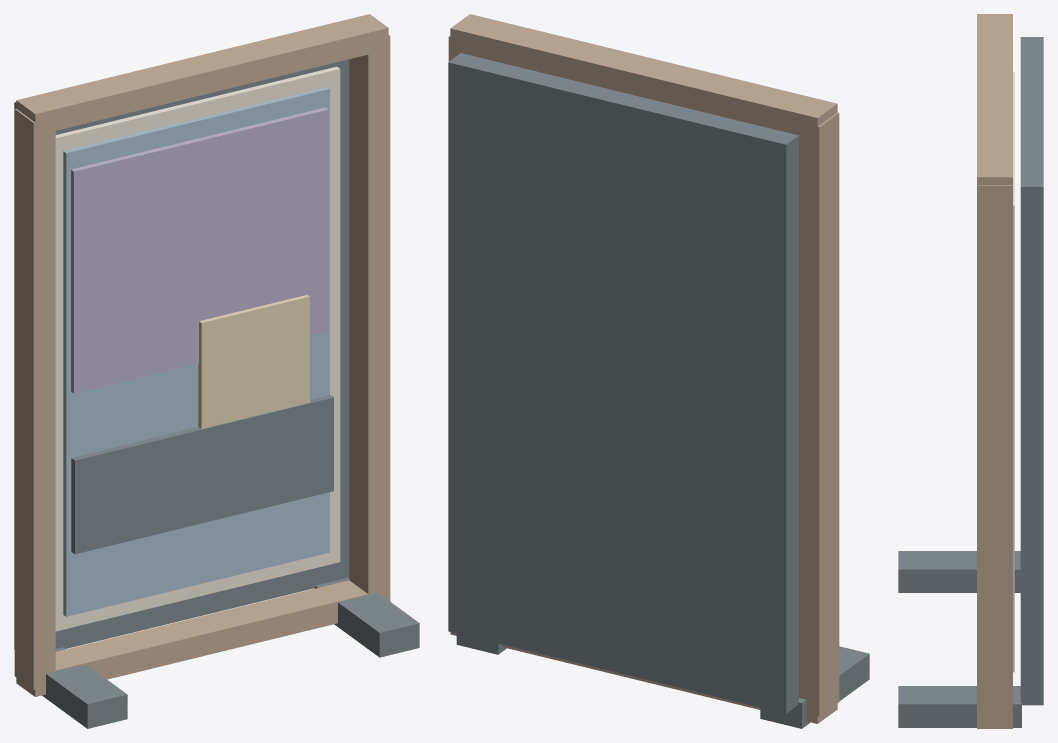
Rendered from poster_floor_frame.glb.
3 views of the same model, side by side, from view 1: azimuth 30°, elevation 25°; view 2: azimuth 150°, elevation 25°; view 3: azimuth 270°, elevation 25° (orthographic). The views are drawn at different scales.
Visible parts, largest first — view 1: ArtworkDuskGradientUpper, InkBackdrop, ArtworkHorizon, SolidWoodVerticalFrame_-0.355, SolidWoodVerticalFrame_0.355, CreamMat, SolidWoodHorizontalFrame_1.17, WalnutBackboard, ArtworkWarmSun, SolidWoodHorizontalFrame_0.032, LeanFoot_0.31, LeanFoot_-0.31; view 2: WalnutBackboard, SolidWoodVerticalFrame_-0.355, SolidWoodHorizontalFrame_1.17, LeanFoot_-0.31, SolidWoodHorizontalFrame_0.032; view 3: SolidWoodVerticalFrame_0.355, WalnutBackboard, SolidWoodHorizontalFrame_1.17, LeanFoot_0.31, LeanFoot_-0.31, CreamMat.
Part boxes in pixels (x1=…): ArtworkDuskGradientUpper: x1=71, y1=107, x2=328, y2=393; InkBackdrop: x1=63, y1=87, x2=329, y2=616; ArtworkHorizon: x1=71, y1=395, x2=333, y2=554; SolidWoodVerticalFrame_-0.355: x1=14, y1=108, x2=55, y2=689; SolidWoodVerticalFrame_0.355: x1=349, y1=35, x2=390, y2=601; CreamMat: x1=55, y1=66, x2=340, y2=631; SolidWoodHorizontalFrame_1.17: x1=16, y1=14, x2=388, y2=135; WalnutBackboard: x1=14, y1=59, x2=349, y2=649; ArtworkWarmSun: x1=198, y1=295, x2=309, y2=428; SolidWoodHorizontalFrame_0.032: x1=16, y1=580, x2=387, y2=696; LeanFoot_0.31: x1=314, y1=577, x2=419, y2=657; LeanFoot_-0.31: x1=42, y1=647, x2=127, y2=728; WalnutBackboard: x1=448, y1=53, x2=798, y2=713; SolidWoodVerticalFrame_-0.355: x1=796, y1=112, x2=839, y2=716; SolidWoodHorizontalFrame_1.17: x1=450, y1=14, x2=837, y2=138; LeanFoot_-0.31: x1=760, y1=646, x2=869, y2=728; SolidWoodHorizontalFrame_0.032: x1=450, y1=632, x2=837, y2=723; SolidWoodVerticalFrame_0.355: x1=977, y1=185, x2=1012, y2=722; WalnutBackboard: x1=1020, y1=37, x2=1043, y2=705; SolidWoodHorizontalFrame_1.17: x1=977, y1=14, x2=1012, y2=185; LeanFoot_0.31: x1=898, y1=686, x2=1021, y2=727; LeanFoot_-0.31: x1=898, y1=551, x2=1020, y2=592; CreamMat: x1=1013, y1=71, x2=1014, y2=672.
Bounding box in the file's own units: 0.757 × 1.19 × 0.2825.
